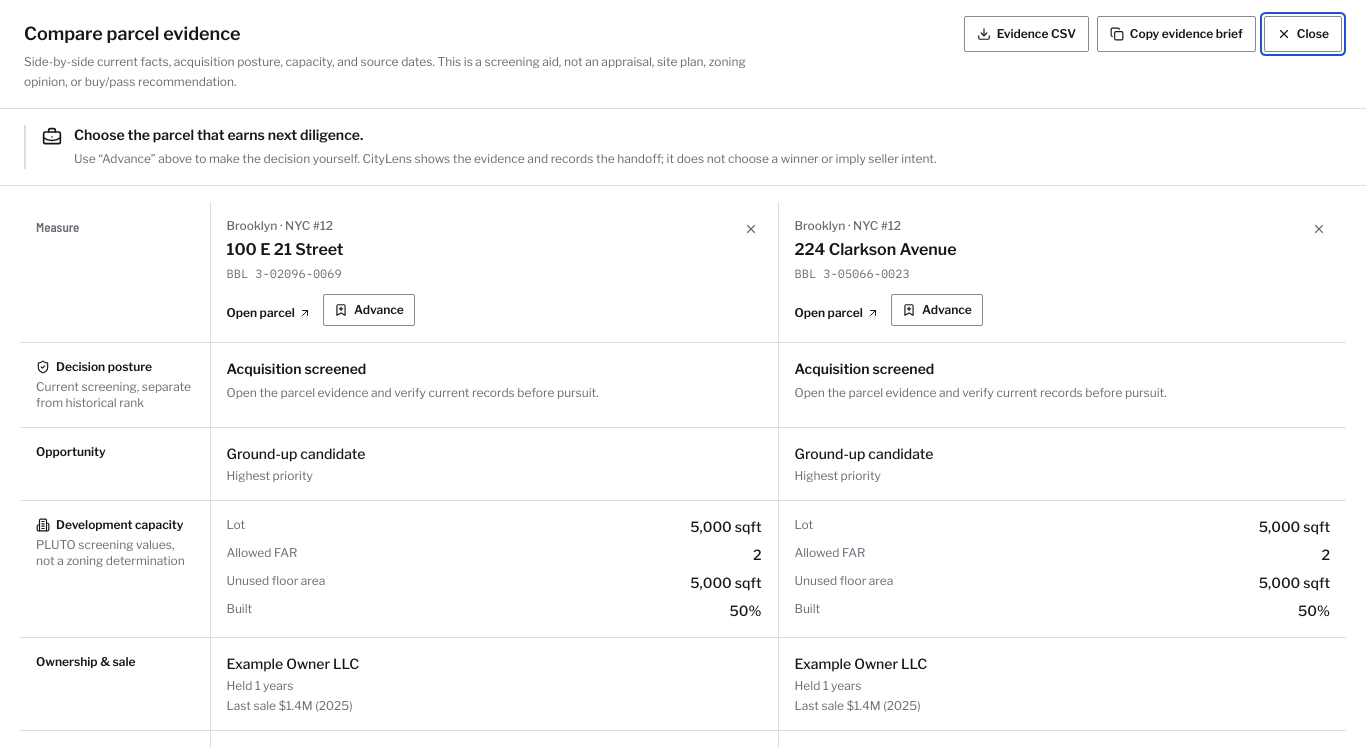
Test case: ParcelComparisonDesk › explains when an active workflow was preserved
What coordinates should you click on to do the following:
click the button with aria-label "Advance 100 E 21 STREET from comparison"
I would click on:
 (369, 310)
Its box is x1=323 y1=294 x2=415 y2=326.
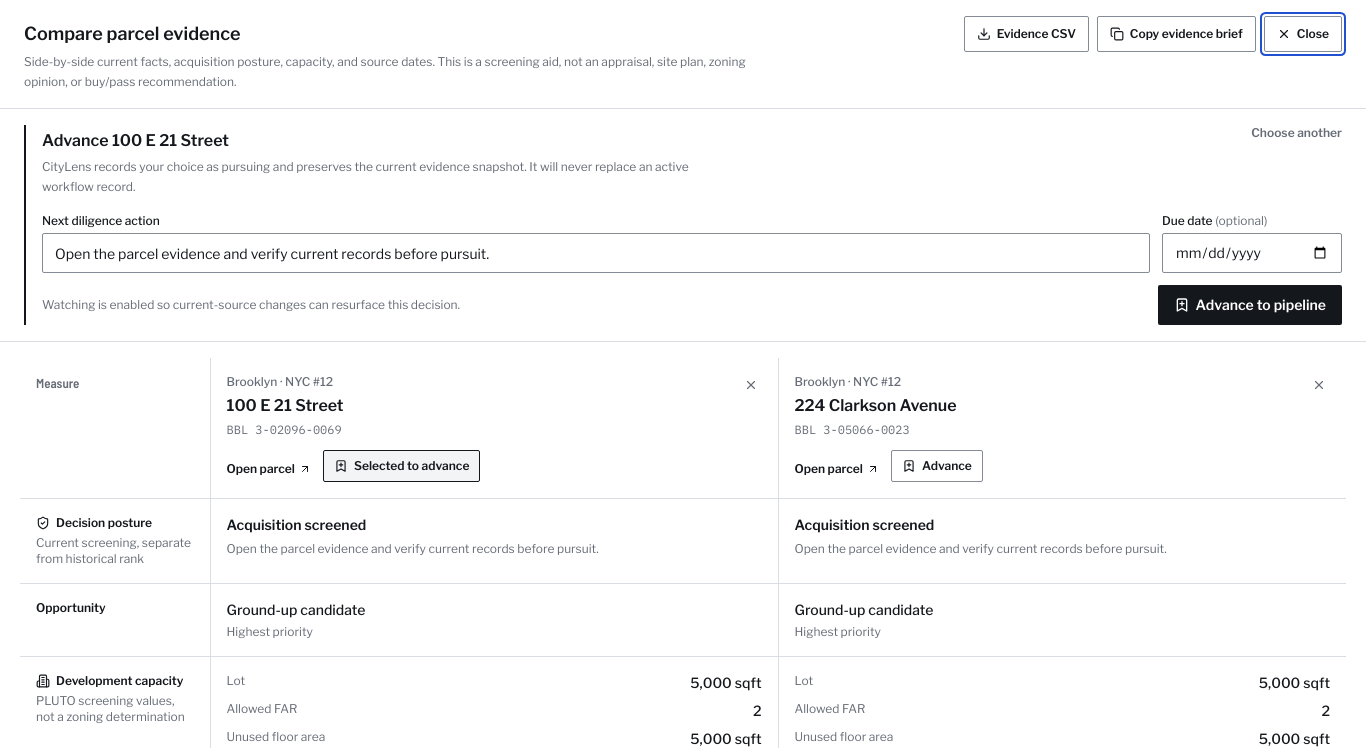
What coordinates should you click on to do the following:
click the button with test id "advance-comparison-parcel"
I would click on:
 (1250, 305)
Its box is x1=1158 y1=285 x2=1342 y2=325.
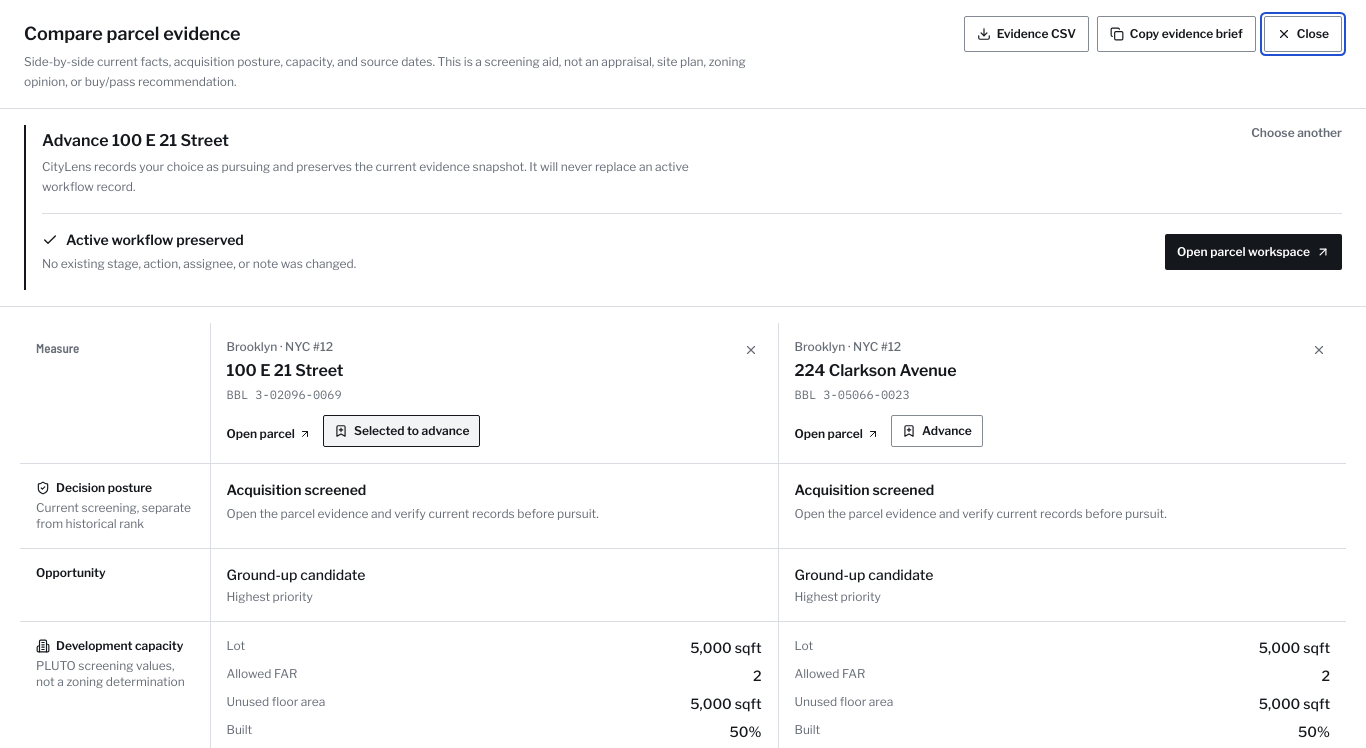
Now the text "Active workflow preserved" is shown, box x1=42 y1=231 x2=244 y2=248
Now the text "No existing stage, action, assignee, or note was changed." is shown, box x1=42 y1=254 x2=356 y2=274
